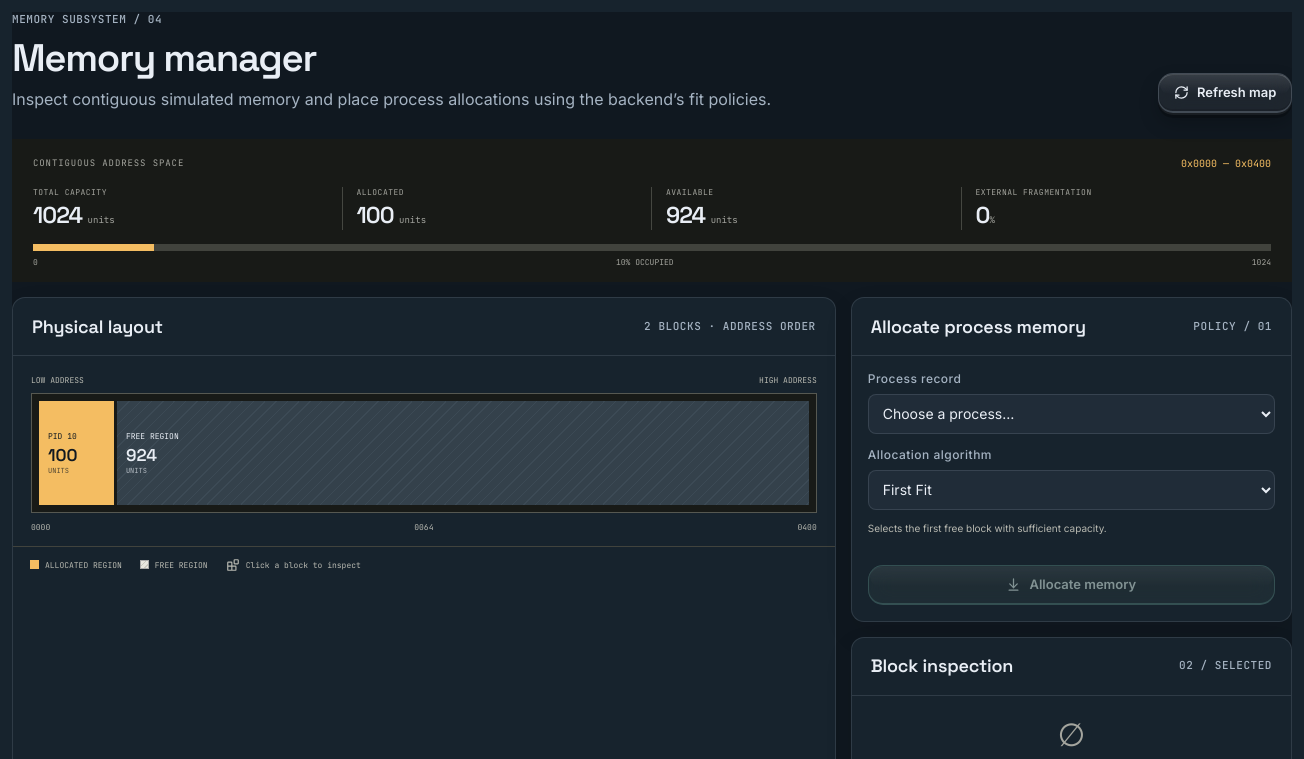
Scenario: core workspace pages › posts a selected allocation policy and uses the returned memory snapshot
Select "PID 11 · pager · 200 units" in the dropdown labelled "Process record" at (1071, 414), box [868, 394, 1275, 434]
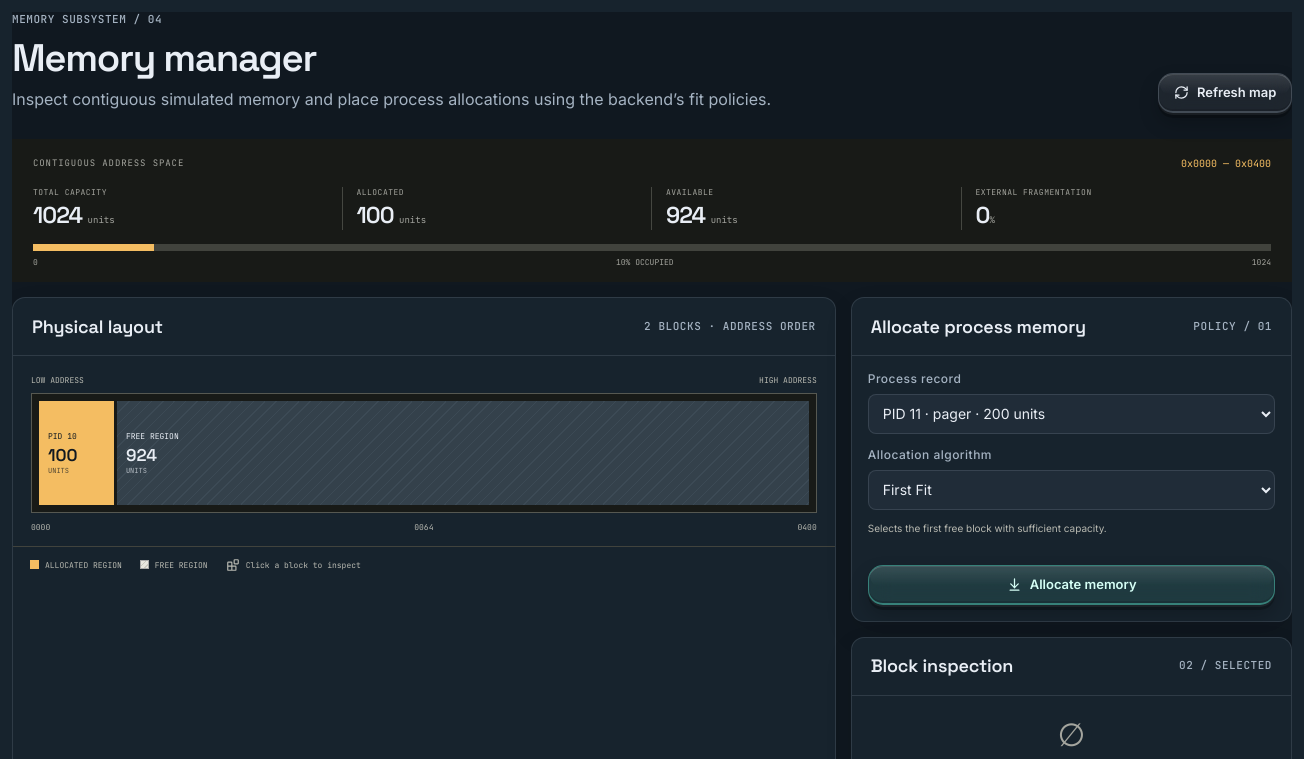
Select "Best Fit" in the dropdown labelled "Allocation algorithm" at (1071, 490), box [868, 470, 1275, 510]
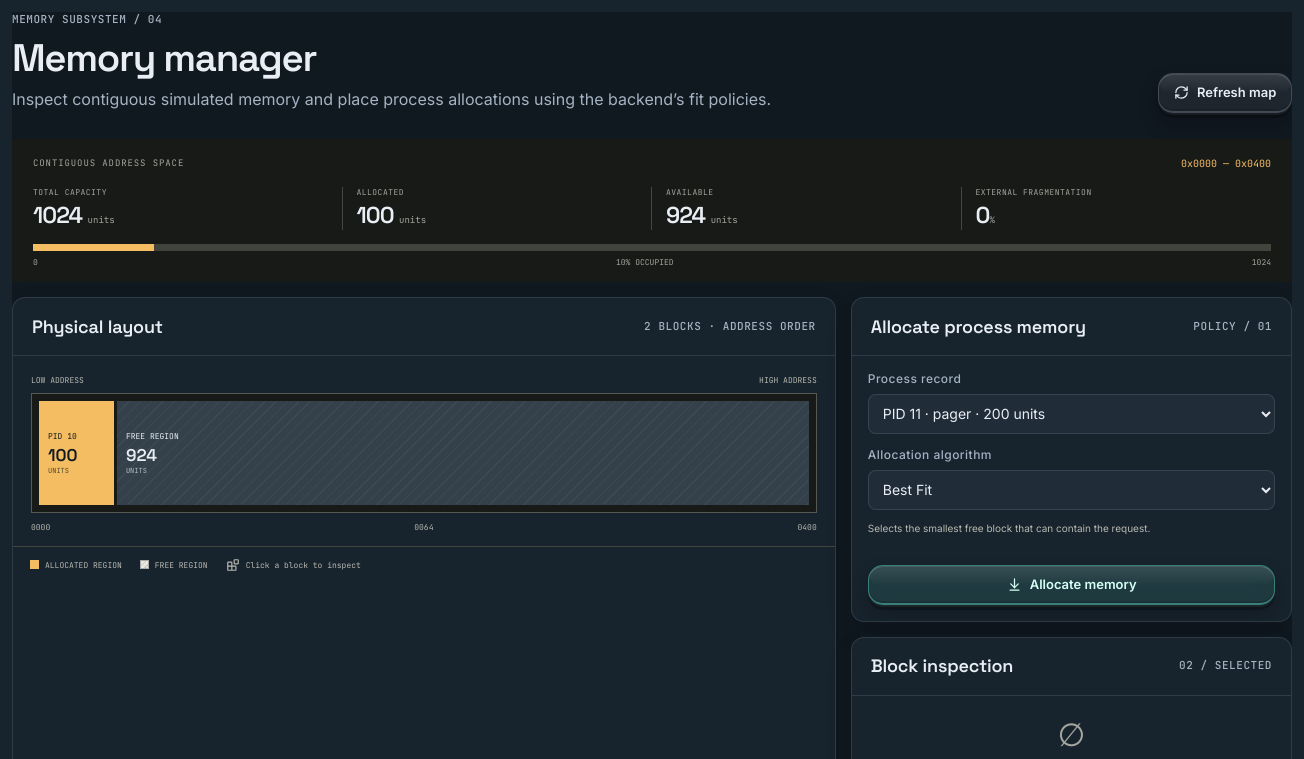
Click the button "Allocate memory".
click(1071, 585)  # box [868, 565, 1275, 605]
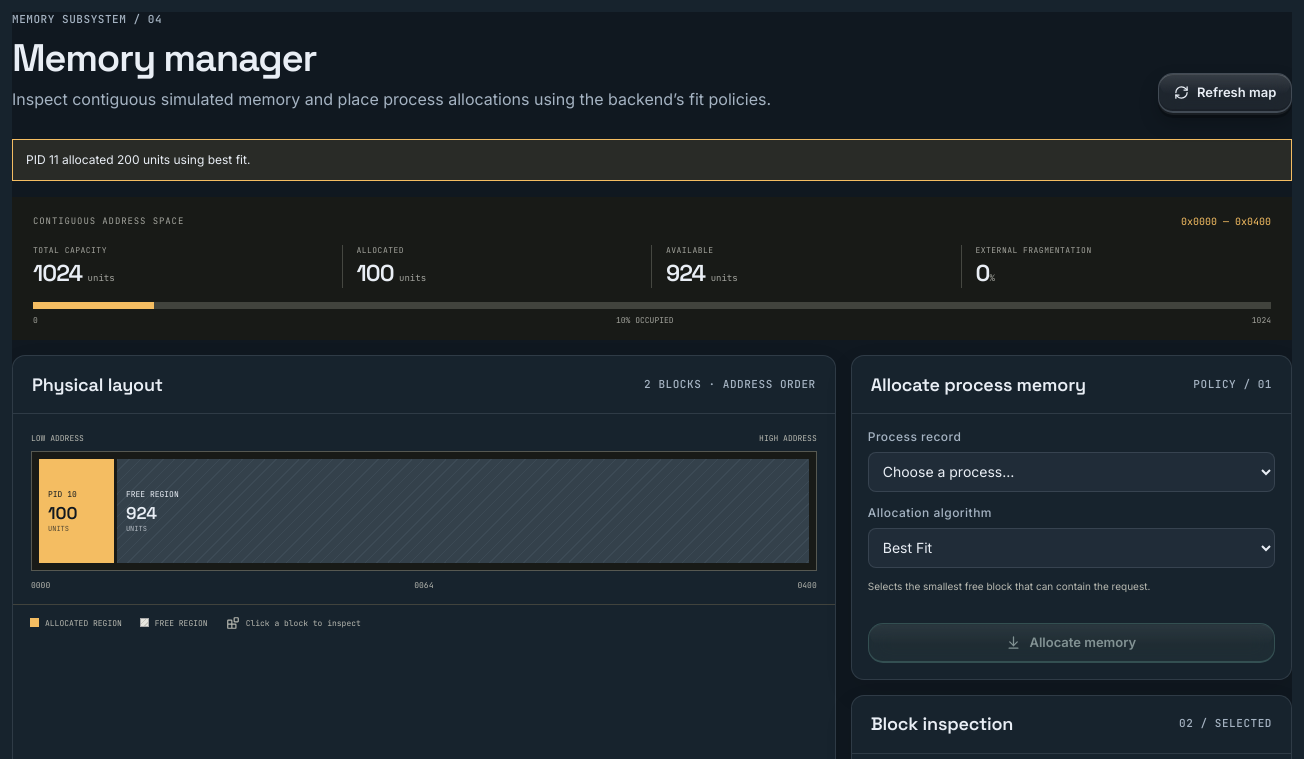
Check: the text "PID 11 allocated 200 units using best fit." is shown, box [12, 139, 1292, 181]
